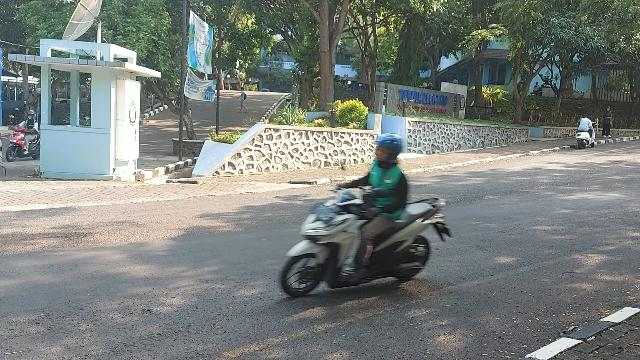helm: (375, 135, 403, 166)
motor: (281, 185, 454, 298)
